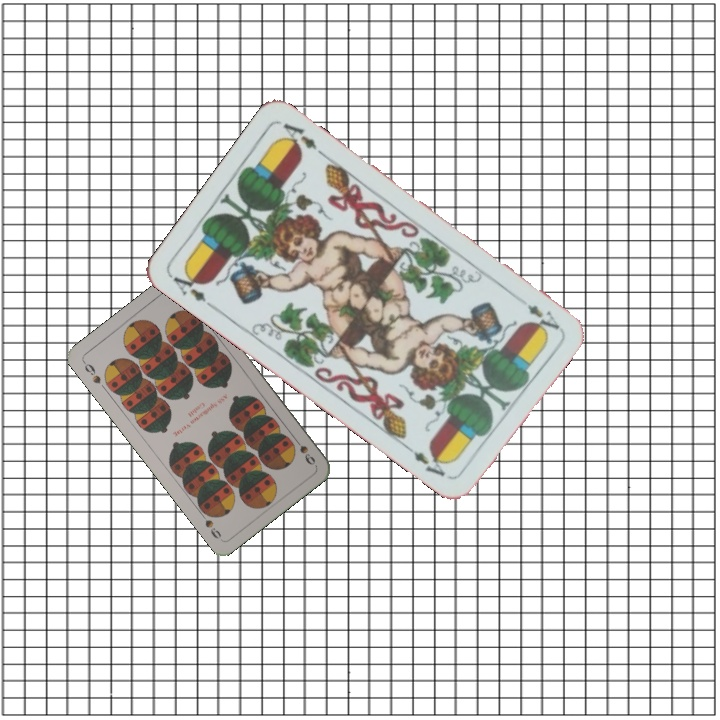EA: (169, 265, 219, 313), (523, 300, 563, 333)
S9: (289, 433, 318, 468), (79, 357, 103, 386)
